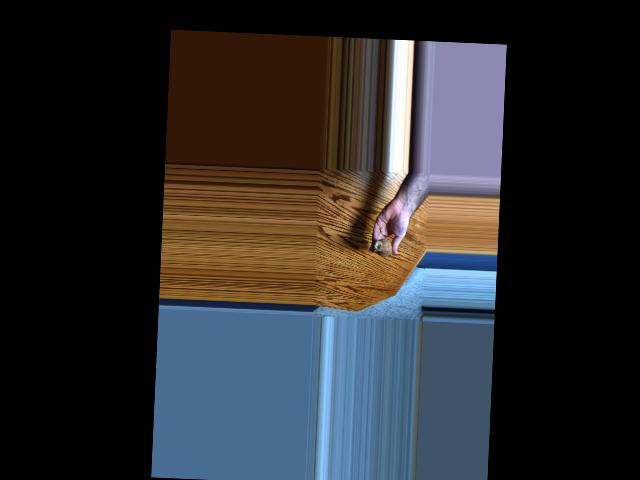sweet_potato: (374, 238, 393, 258)
